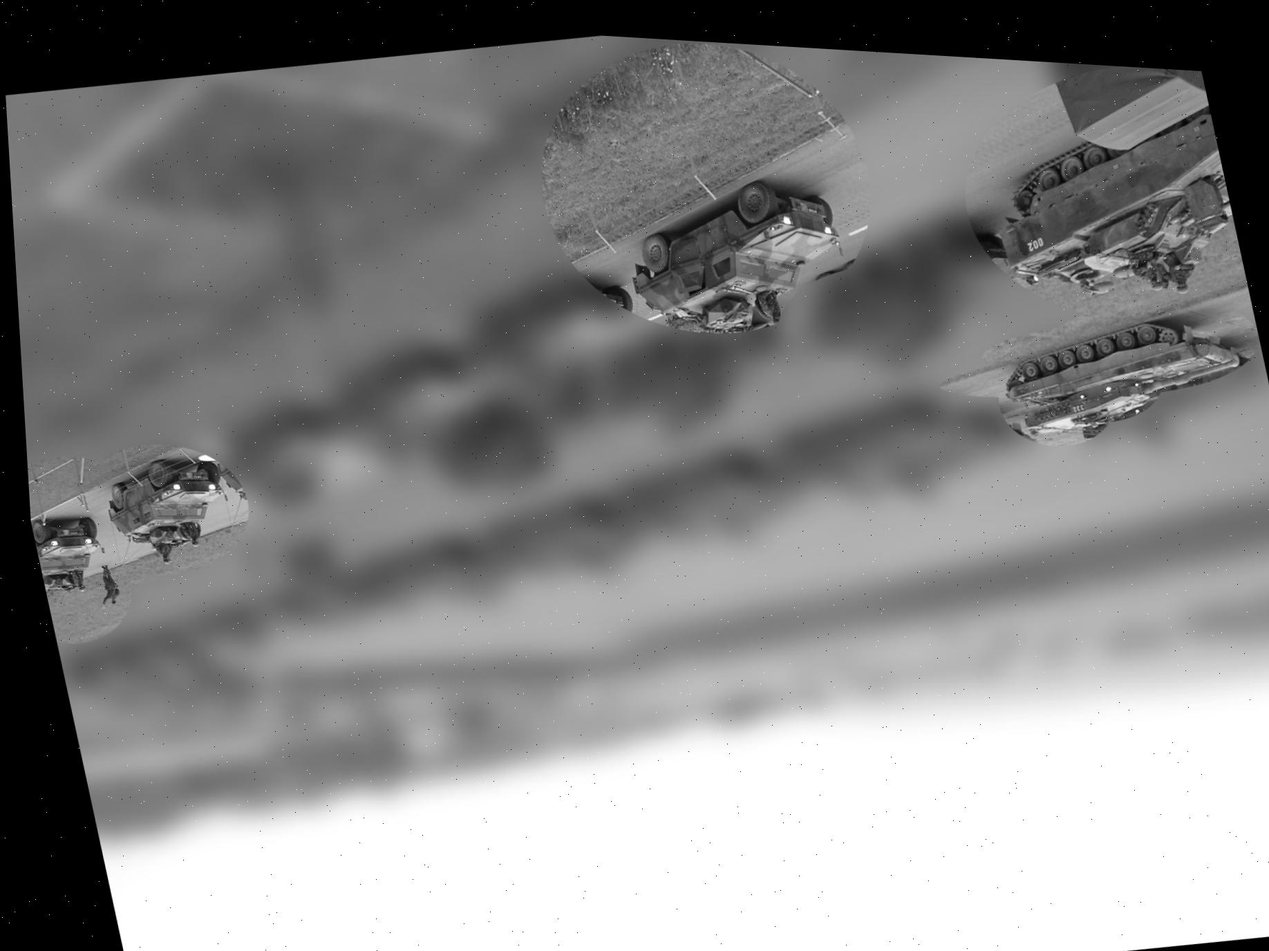armored_car: (604, 159, 864, 354), (94, 444, 236, 560), (30, 508, 111, 597)
tank: (947, 56, 1249, 320), (972, 296, 1262, 467)
